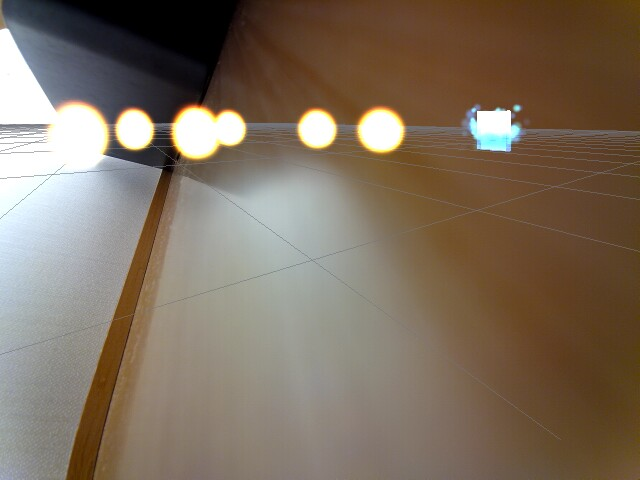firebig: (39, 80, 110, 176)
